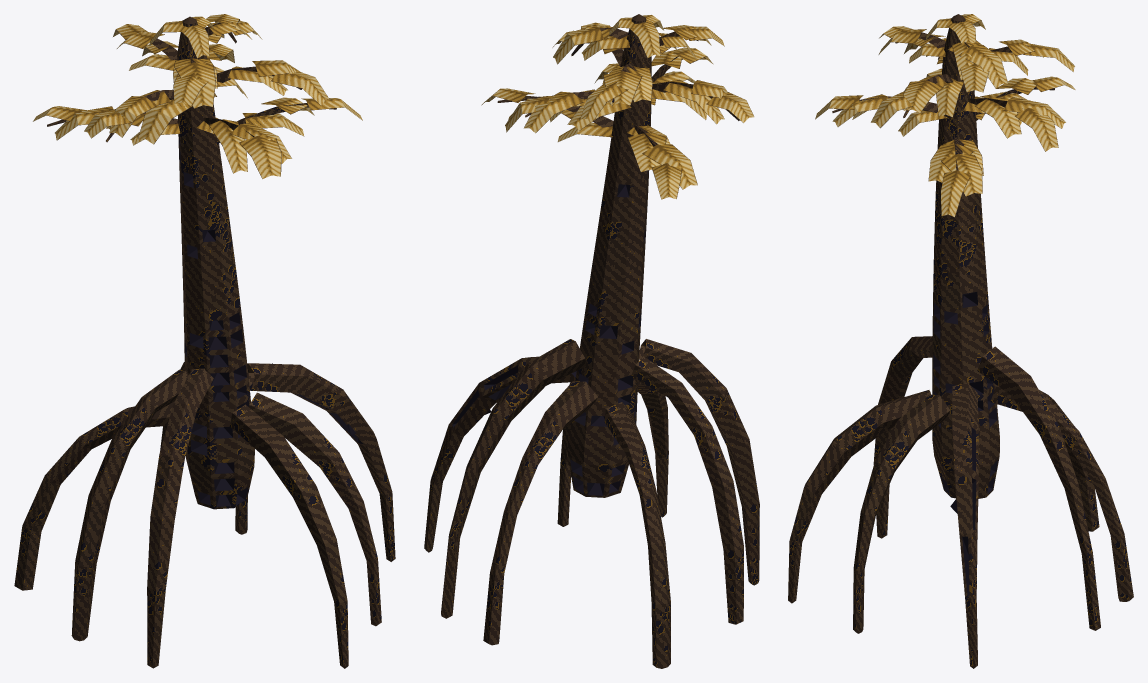
The model's file is FLO-02_Arbol_zancudo_b.gltf.
3 renders of one model, left to right at view 1: azimuth 30°, elevation 25°; view 2: azimuth 150°, elevation 25°; view 3: azimuth 270°, elevation 25°, orthographic. The views are drawn at different scales.
Parts seen in each view (by area): view 1: FLO-02_Arbol_zancudo_b; view 2: FLO-02_Arbol_zancudo_b; view 3: FLO-02_Arbol_zancudo_b.
Part boxes in pixels (<box>): FLO-02_Arbol_zancudo_b: <box>14,14,395,668</box>; FLO-02_Arbol_zancudo_b: <box>424,14,759,668</box>; FLO-02_Arbol_zancudo_b: <box>788,14,1133,668</box>.
Size of what is drawn, in the model's own units: 4.36 by 7.72 by 4.32.
Materials: 1 (1 with a texture image).
